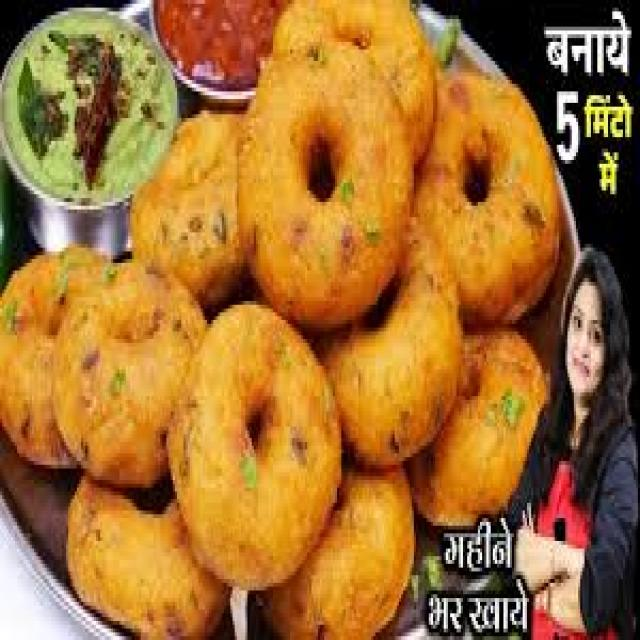MEDU VADA: (234, 36, 413, 336), (162, 304, 343, 586), (410, 70, 561, 325), (417, 72, 561, 319), (326, 211, 461, 465), (53, 272, 213, 476), (418, 328, 549, 527), (272, 0, 439, 154), (0, 249, 115, 459), (78, 474, 227, 636), (287, 464, 414, 636), (138, 122, 249, 294)
